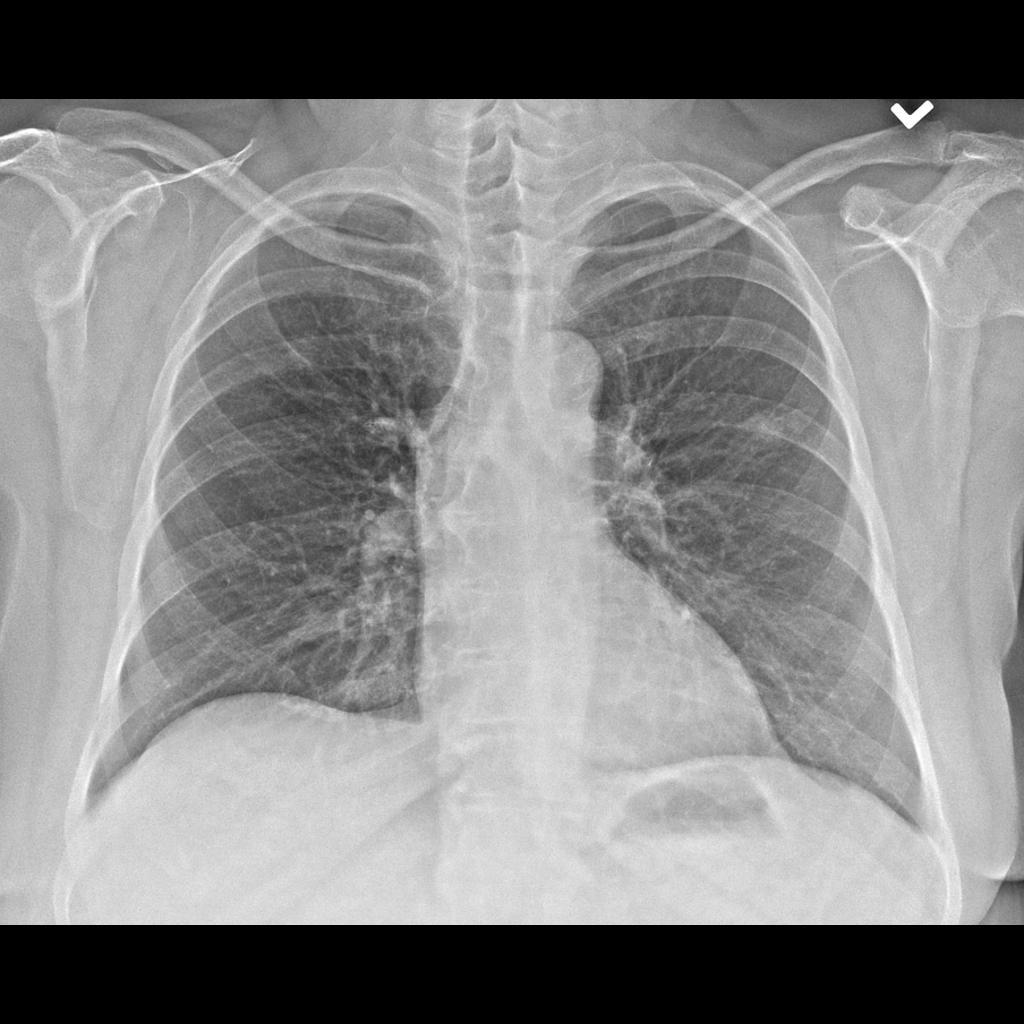Nodule: (725, 397, 795, 459)
